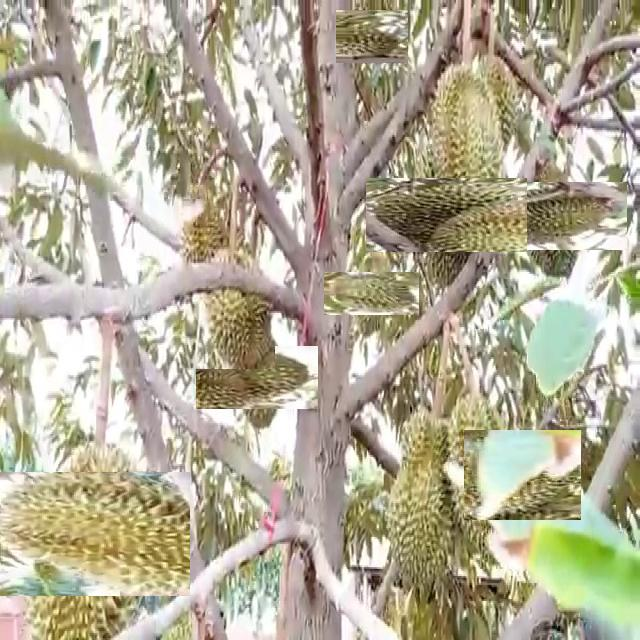durian: (3, 451, 170, 617), (421, 406, 558, 543), (384, 397, 464, 589), (388, 156, 506, 274), (427, 58, 507, 230), (500, 163, 608, 270), (194, 236, 275, 369), (211, 330, 303, 424), (468, 44, 521, 158), (178, 203, 233, 300), (337, 259, 407, 328), (341, 5, 404, 68)
